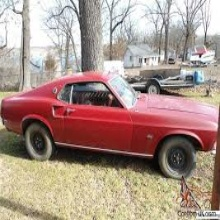no damage: (1, 70, 220, 179)
